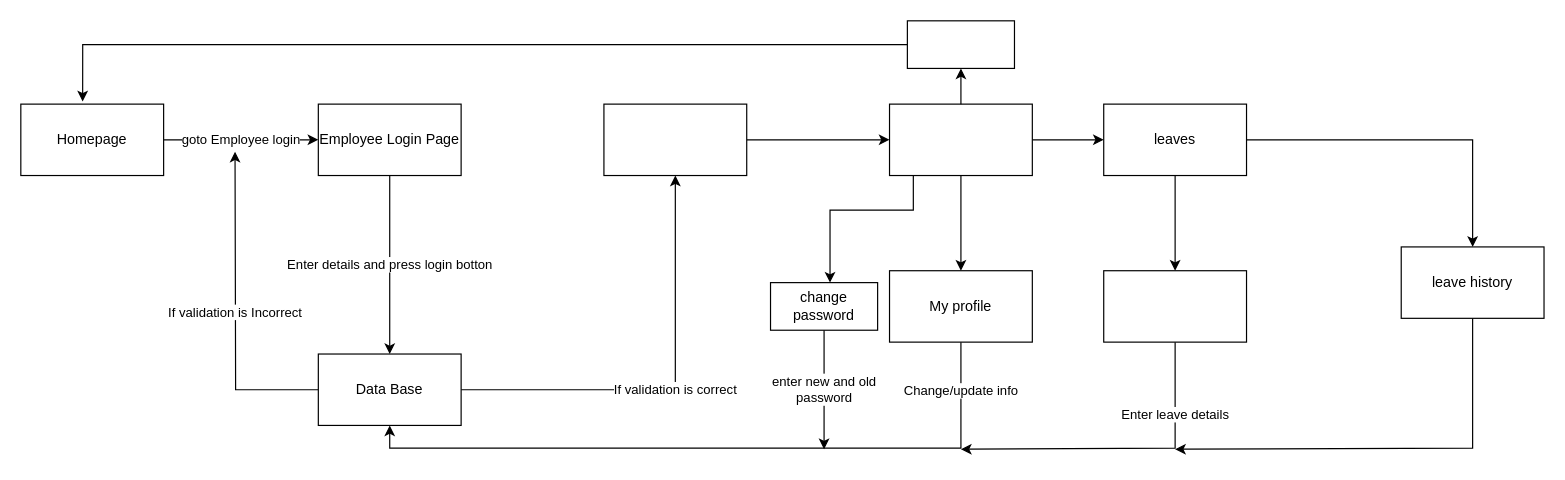
The diagram is 1565 pixels wide and 480 high, and some of its shapes have lost their labels. The shapes that lost their labels are listed below. From the top down, each one's box as (x1, y1, x2, y2) in pixels, then its label:
(906, 20, 1014, 68): sign out
(603, 103, 747, 176): Employee Dashboard
(888, 103, 1032, 176): side bar
(1103, 270, 1247, 342): Apply leave
